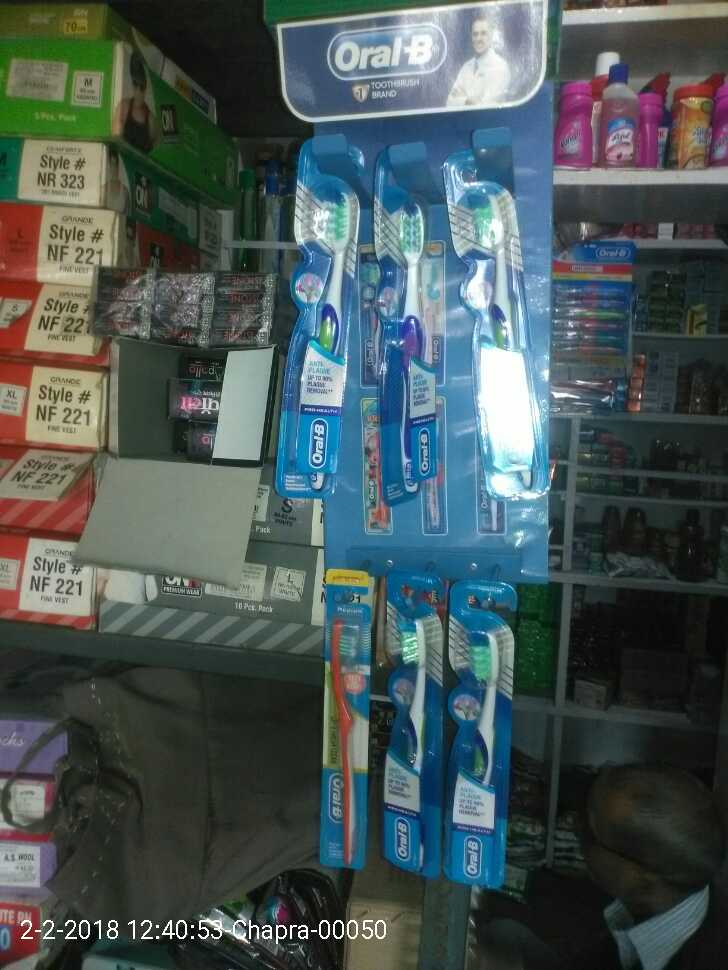oralb: (436, 153, 561, 504), (372, 147, 446, 480), (282, 135, 349, 490), (443, 580, 514, 889), (378, 566, 440, 875), (315, 569, 371, 864)
